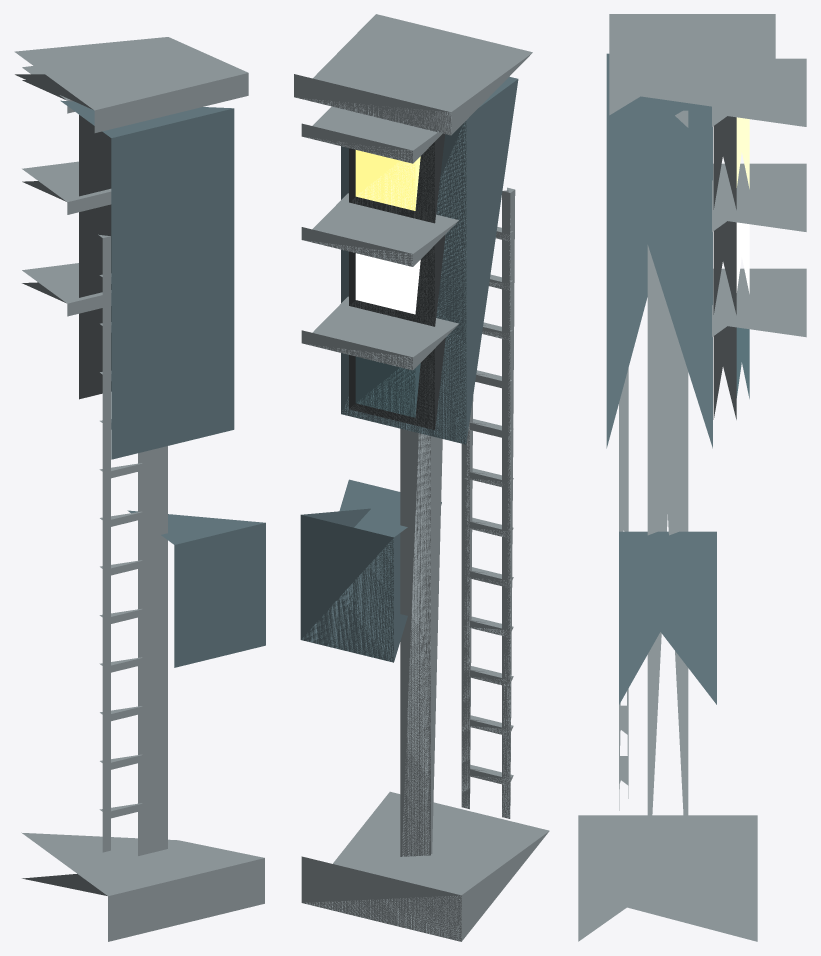
File: signal.gltf
3 views of the same model, side by side, from view 1: azimuth 30°, elevation 25°; view 2: azimuth 150°, elevation 25°; view 3: azimuth 270°, elevation 25° (orthographic). The views are drawn at different scales.
Parts seen in each view (by area): view 1: signal housing, mast foot, hood top, maintenance box, steel signal mast, ladder upright left, ladder upright right, signal bezel 1, visor 1, signal bezel 0, visor 2, signal bezel 2; view 2: mast foot, signal housing, hood top, steel signal mast, maintenance box, ladder upright left, visor 1, visor 2, visor 0, ladder upright right, signal lens 1, signal lens 0 (+4 smaller); view 3: signal housing, mast foot, hood top, maintenance box, steel signal mast, visor 1, visor 2, visor 0, ladder upright right, signal bezel 2, signal bezel 1, signal bezel 0 (+3 smaller).
Boxes of the visible parts, bbox=[...] form: signal housing: bbox=[60, 100, 234, 459]; mast foot: bbox=[21, 832, 264, 941]; hood top: bbox=[14, 37, 248, 132]; maintenance box: bbox=[127, 510, 265, 667]; steel signal mast: bbox=[138, 446, 167, 855]; ladder upright left: bbox=[98, 234, 110, 852]; ladder upright right: bbox=[142, 450, 150, 842]; signal bezel 1: bbox=[79, 204, 111, 297]; visor 1: bbox=[22, 161, 111, 214]; signal bezel 0: bbox=[79, 115, 111, 196]; visor 2: bbox=[22, 263, 111, 316]; signal bezel 2: bbox=[79, 306, 111, 399]; mast foot: bbox=[301, 791, 549, 941]; signal housing: bbox=[341, 76, 518, 444]; hood top: bbox=[294, 14, 532, 135]; steel signal mast: bbox=[400, 428, 442, 856]; maintenance box: bbox=[300, 479, 441, 662]; ladder upright left: bbox=[502, 187, 515, 818]; visor 1: bbox=[301, 193, 458, 266]; visor 2: bbox=[301, 296, 458, 370]; visor 0: bbox=[301, 106, 442, 163]; ladder upright right: bbox=[461, 396, 473, 809]; signal lens 1: bbox=[355, 253, 420, 314]; signal lens 0: bbox=[355, 150, 420, 210]; signal housing: bbox=[606, 53, 712, 448]; mast foot: bbox=[578, 815, 757, 941]; hood top: bbox=[609, 14, 775, 115]; maintenance box: bbox=[619, 531, 716, 704]; steel signal mast: bbox=[647, 110, 688, 871]; visor 1: bbox=[712, 163, 806, 231]; visor 2: bbox=[712, 268, 806, 337]; visor 0: bbox=[712, 58, 806, 126]; ladder upright right: bbox=[619, 368, 628, 810]; signal bezel 2: bbox=[713, 326, 736, 419]; signal bezel 1: bbox=[713, 221, 736, 314]; signal bezel 0: bbox=[713, 116, 736, 209].
Size of the model in its own units: 1.3 by 5.74 by 1.4.
